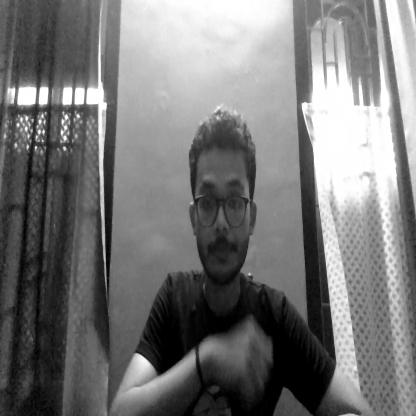Normal: (186, 102, 263, 288)
